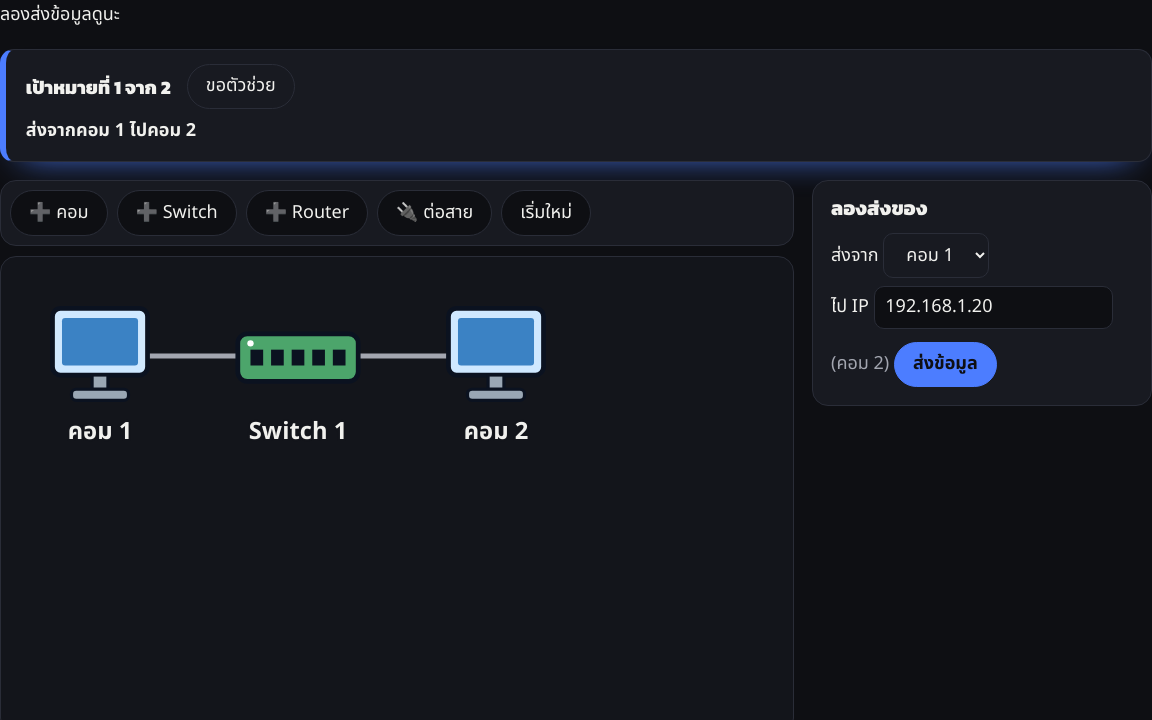
Test: LabView › invalid destination IP shows the reason and does not send
The image size is (1152, 720).
Replace the text in the field labelled "ไป IP" with "abc" at (993, 307), box [874,286,1113,329]
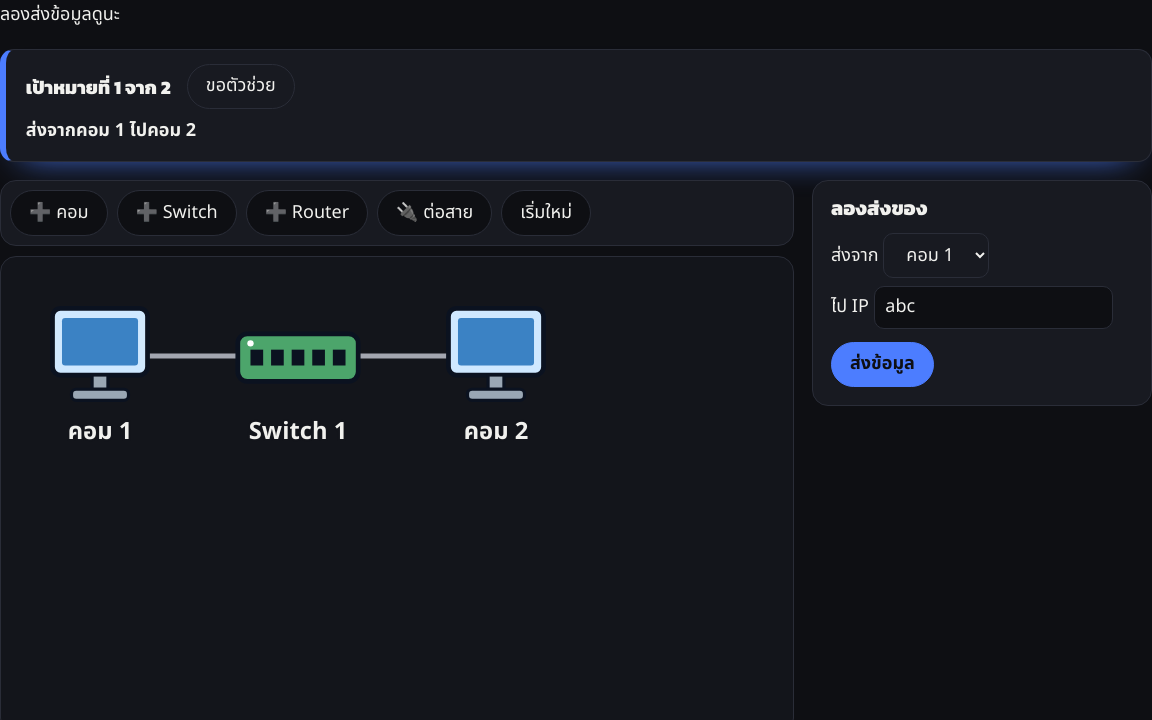
Click the button "ส่งข้อมูล" at (882, 364), box [831,342,934,387]
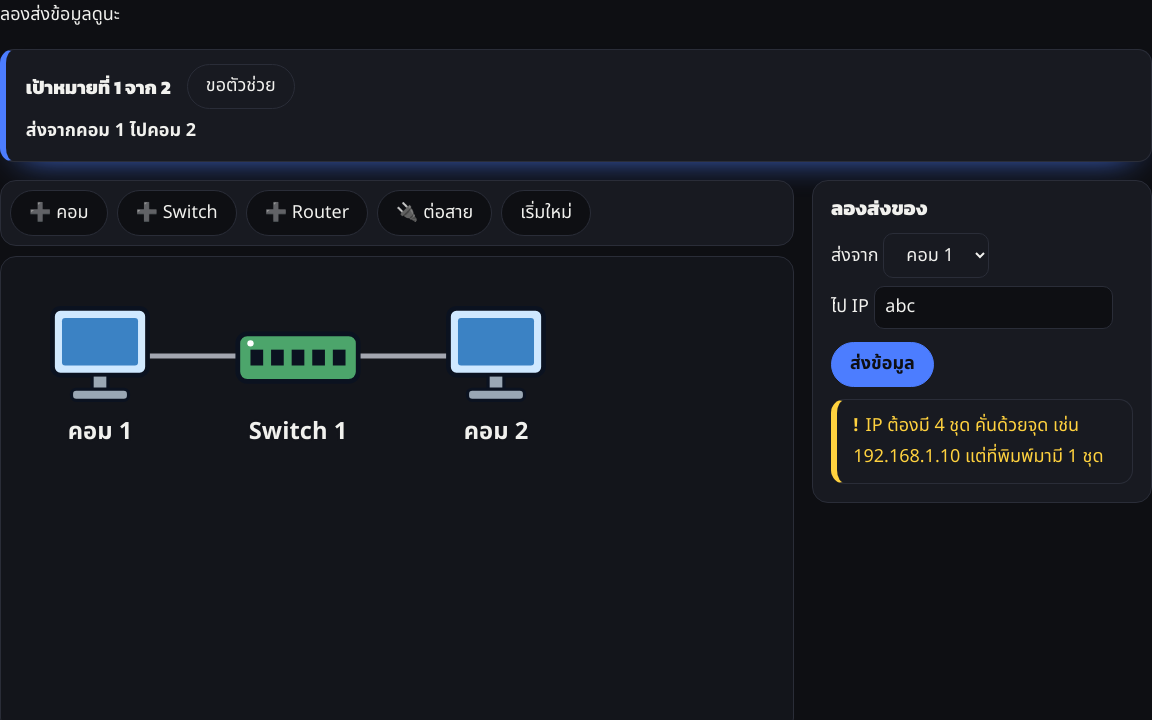
Expected: the message "IP ต้องมี 4 ชุด คั่นด้วยจุด เช่น 192.168.1.10 แต่ที่พิมพ์มามี 1 ชุด" is shown, [831,399,1133,484]
